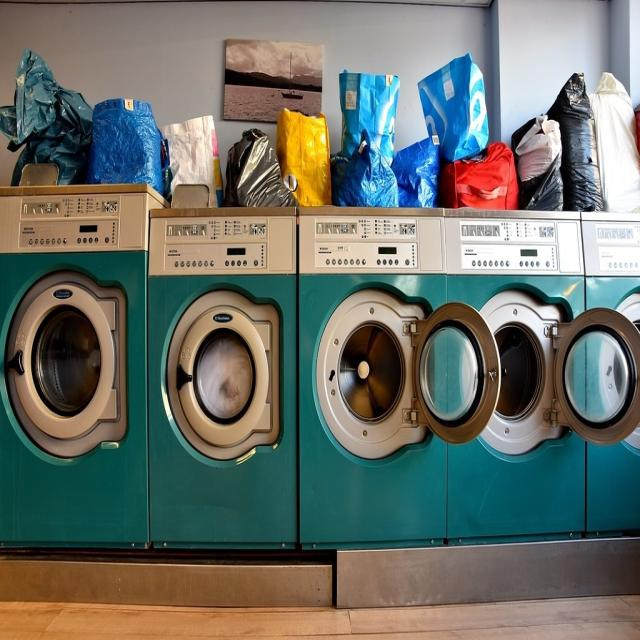Metal: (1, 186, 640, 556)
